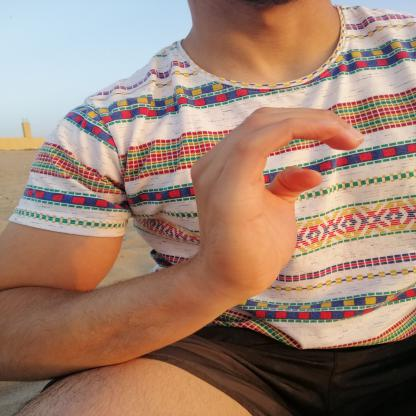JEEM: (178, 99, 378, 301)
